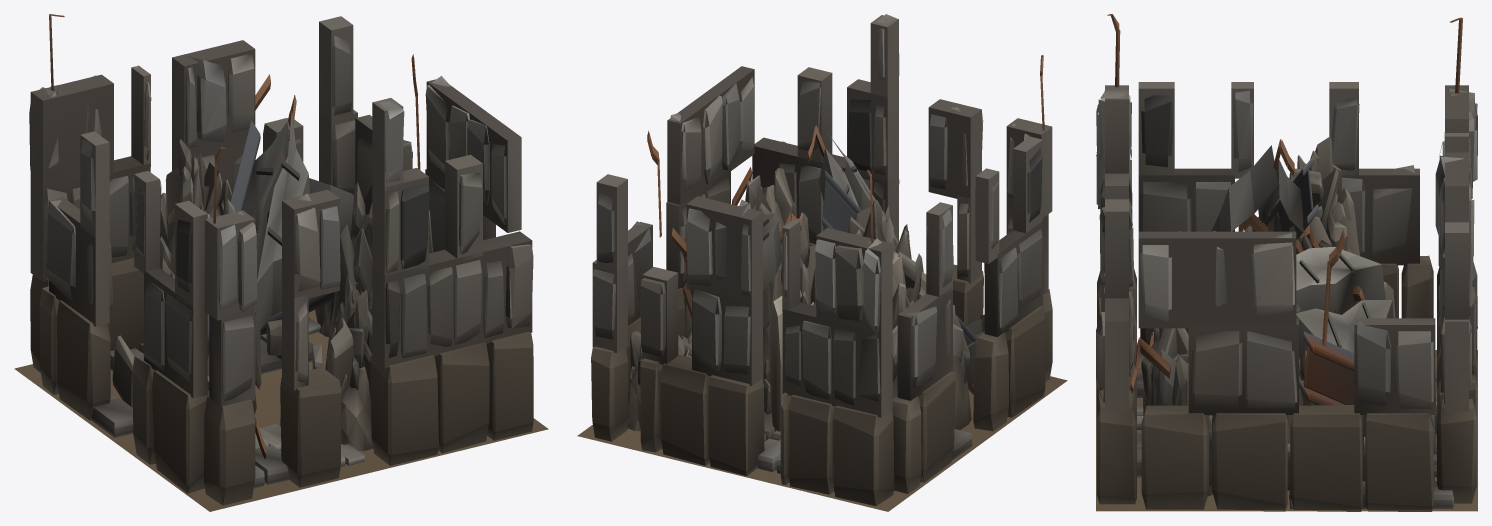
Rendered from rubble-field.glb.
The picture shows the model from 3 angles, left to right: view 1: azimuth 30°, elevation 25°; view 2: azimuth 150°, elevation 25°; view 3: azimuth 270°, elevation 25°; orthographic projection. The views are drawn at different scales.
Parts seen in each view (by area): view 1: rubble-field; view 2: rubble-field; view 3: rubble-field.
Part boxes in pixels (left/top/right/bottom): rubble-field: left=14, top=14, right=548, bottom=511; rubble-field: left=577, top=14, right=1067, bottom=511; rubble-field: left=1096, top=14, right=1477, bottom=511.
Size of the model in its own units: 1 by 1 by 1.
